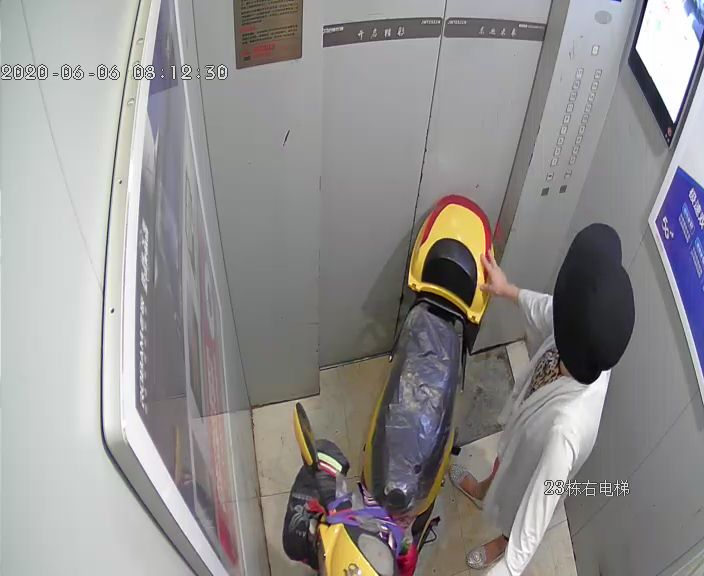Electric-bicycle: (280, 194, 504, 576)
